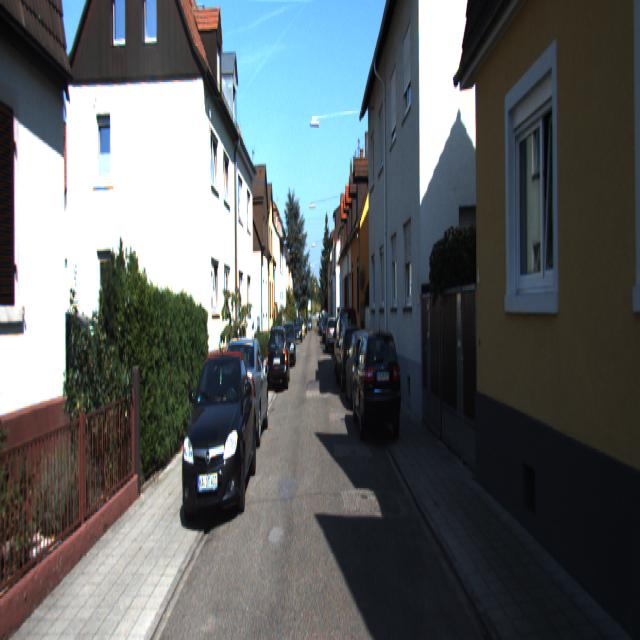Car: (180, 341, 258, 531), (351, 319, 402, 444), (220, 327, 270, 453), (344, 327, 381, 417), (334, 300, 358, 379), (267, 320, 290, 388), (326, 317, 338, 354)
